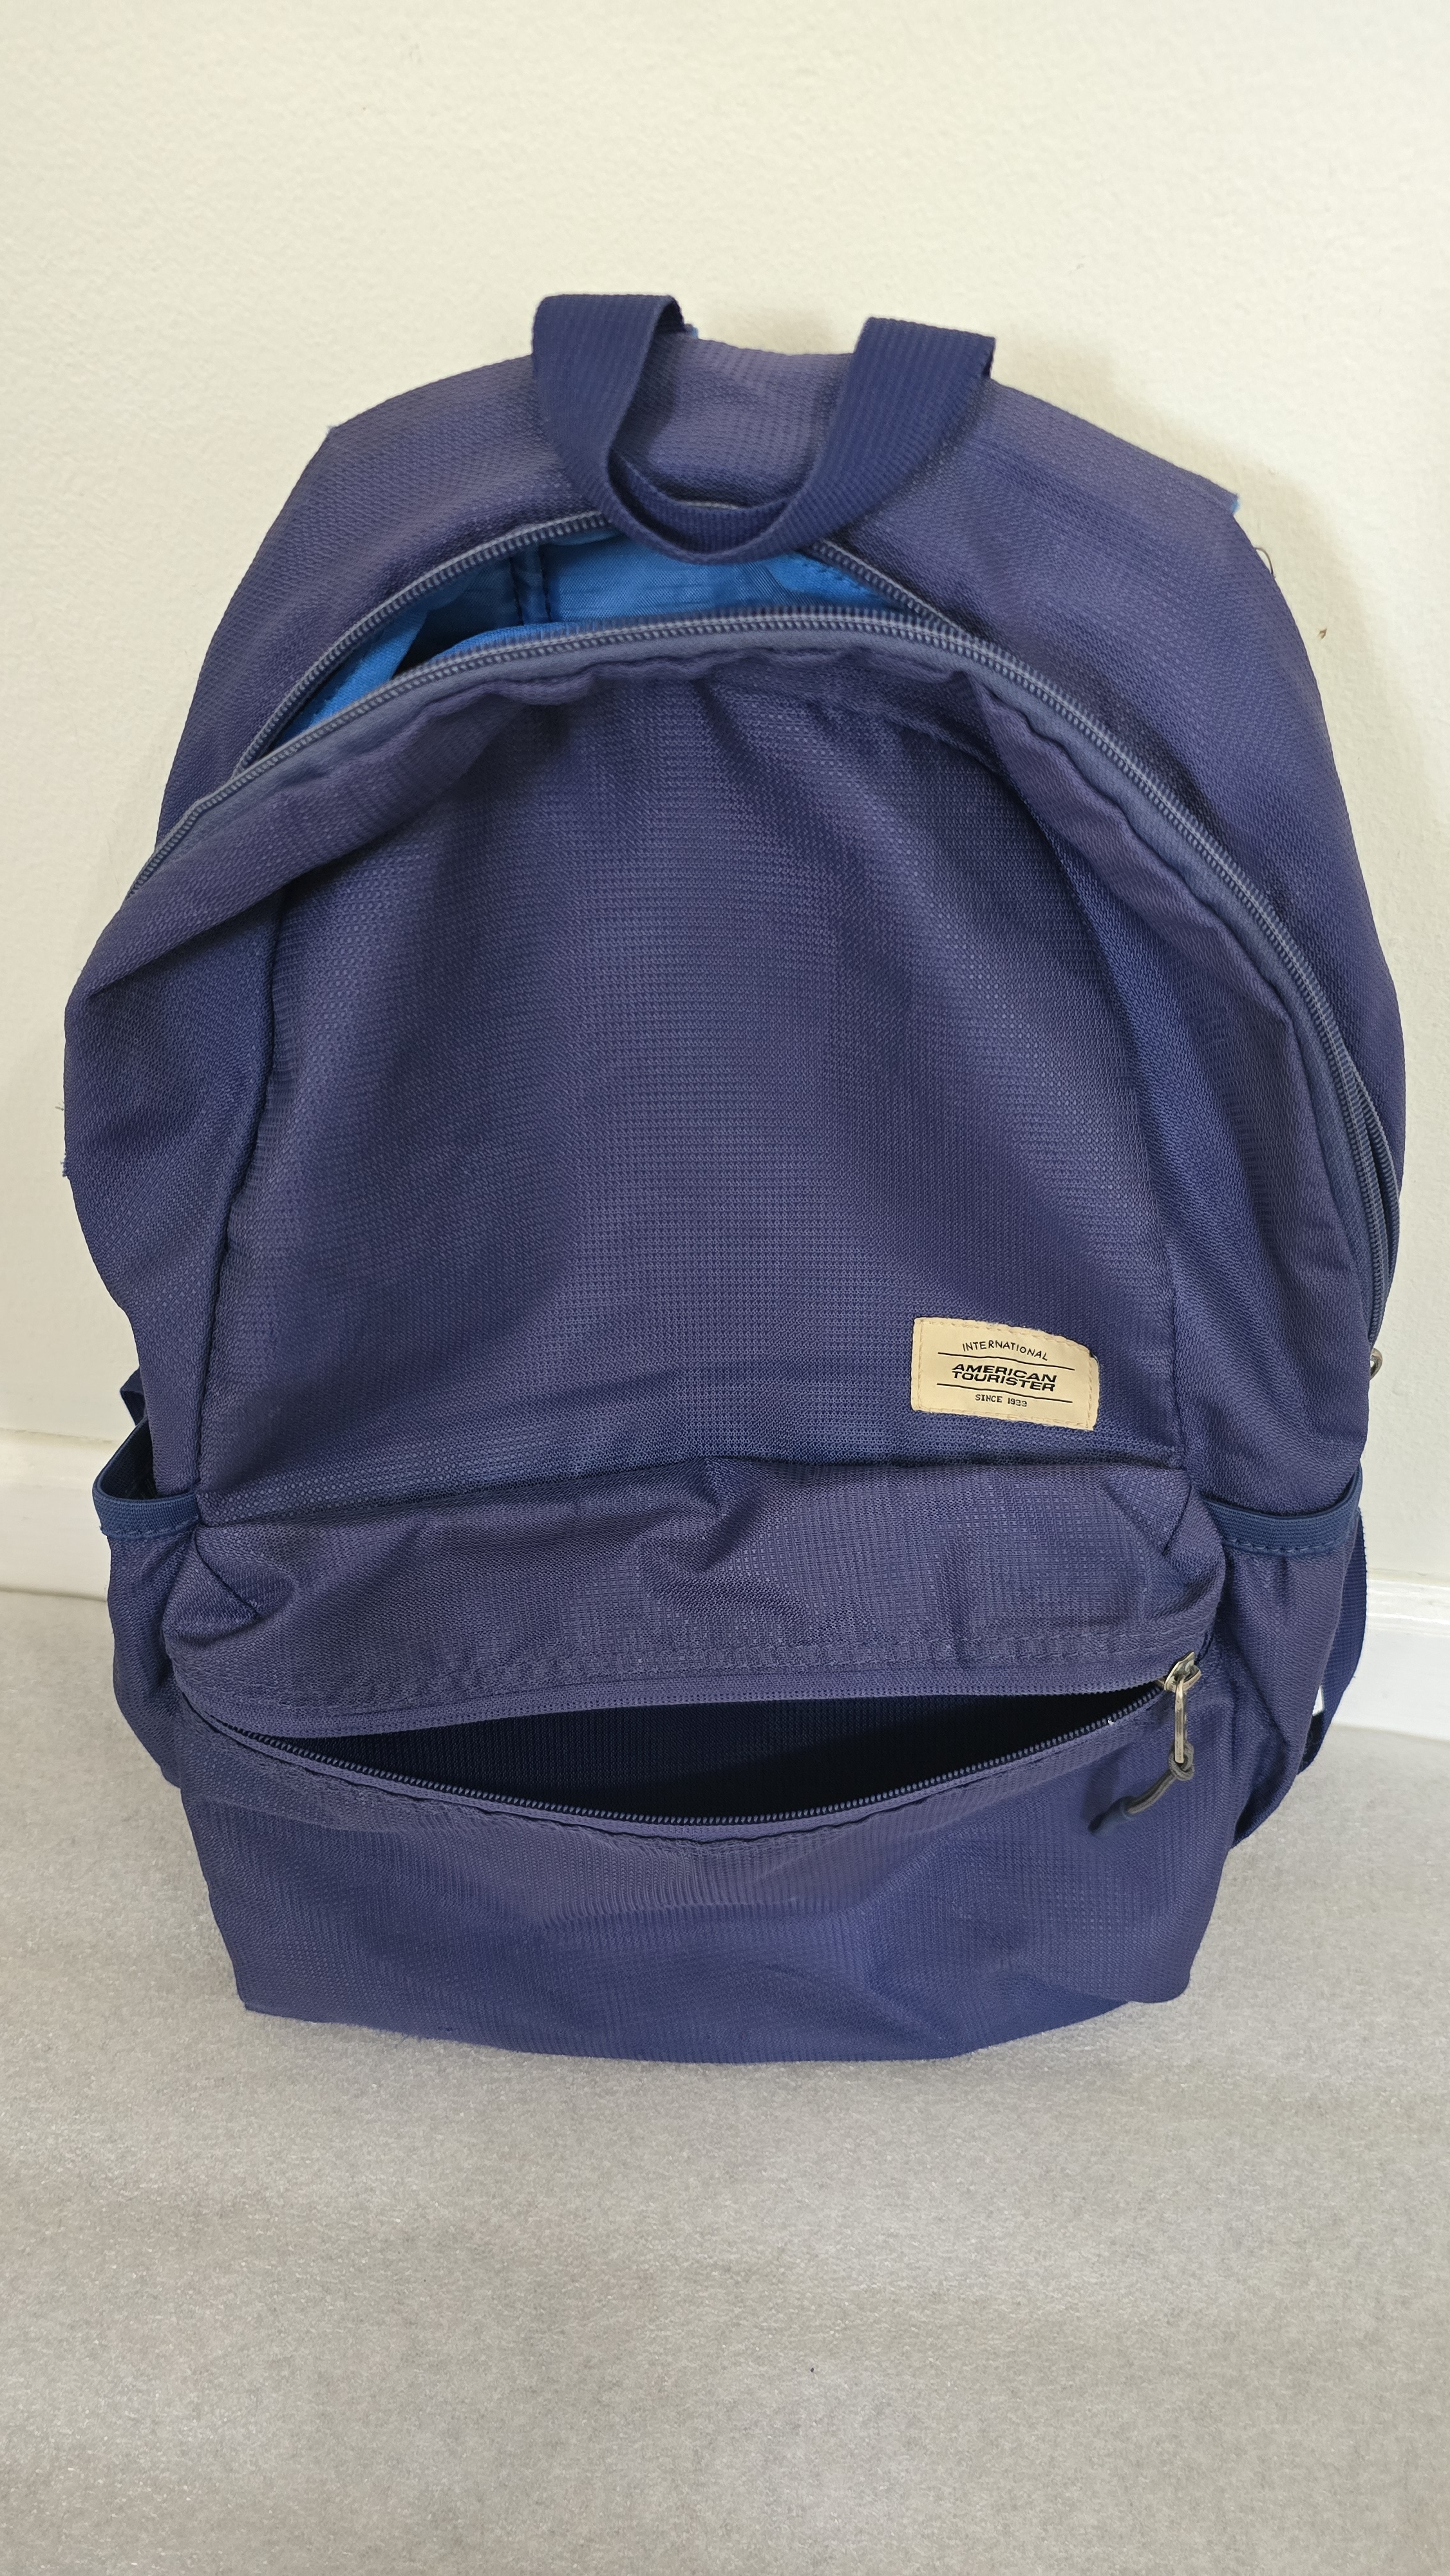bag: (74, 274, 1429, 2116)
